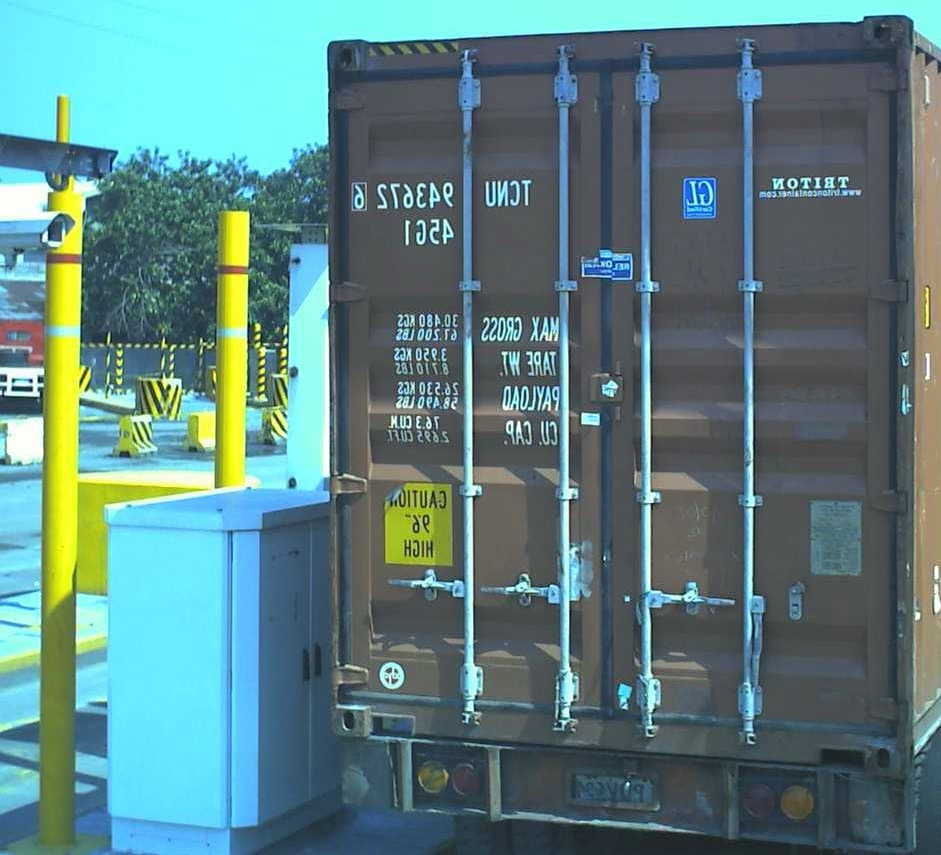container_door: (310, 15, 913, 778)
